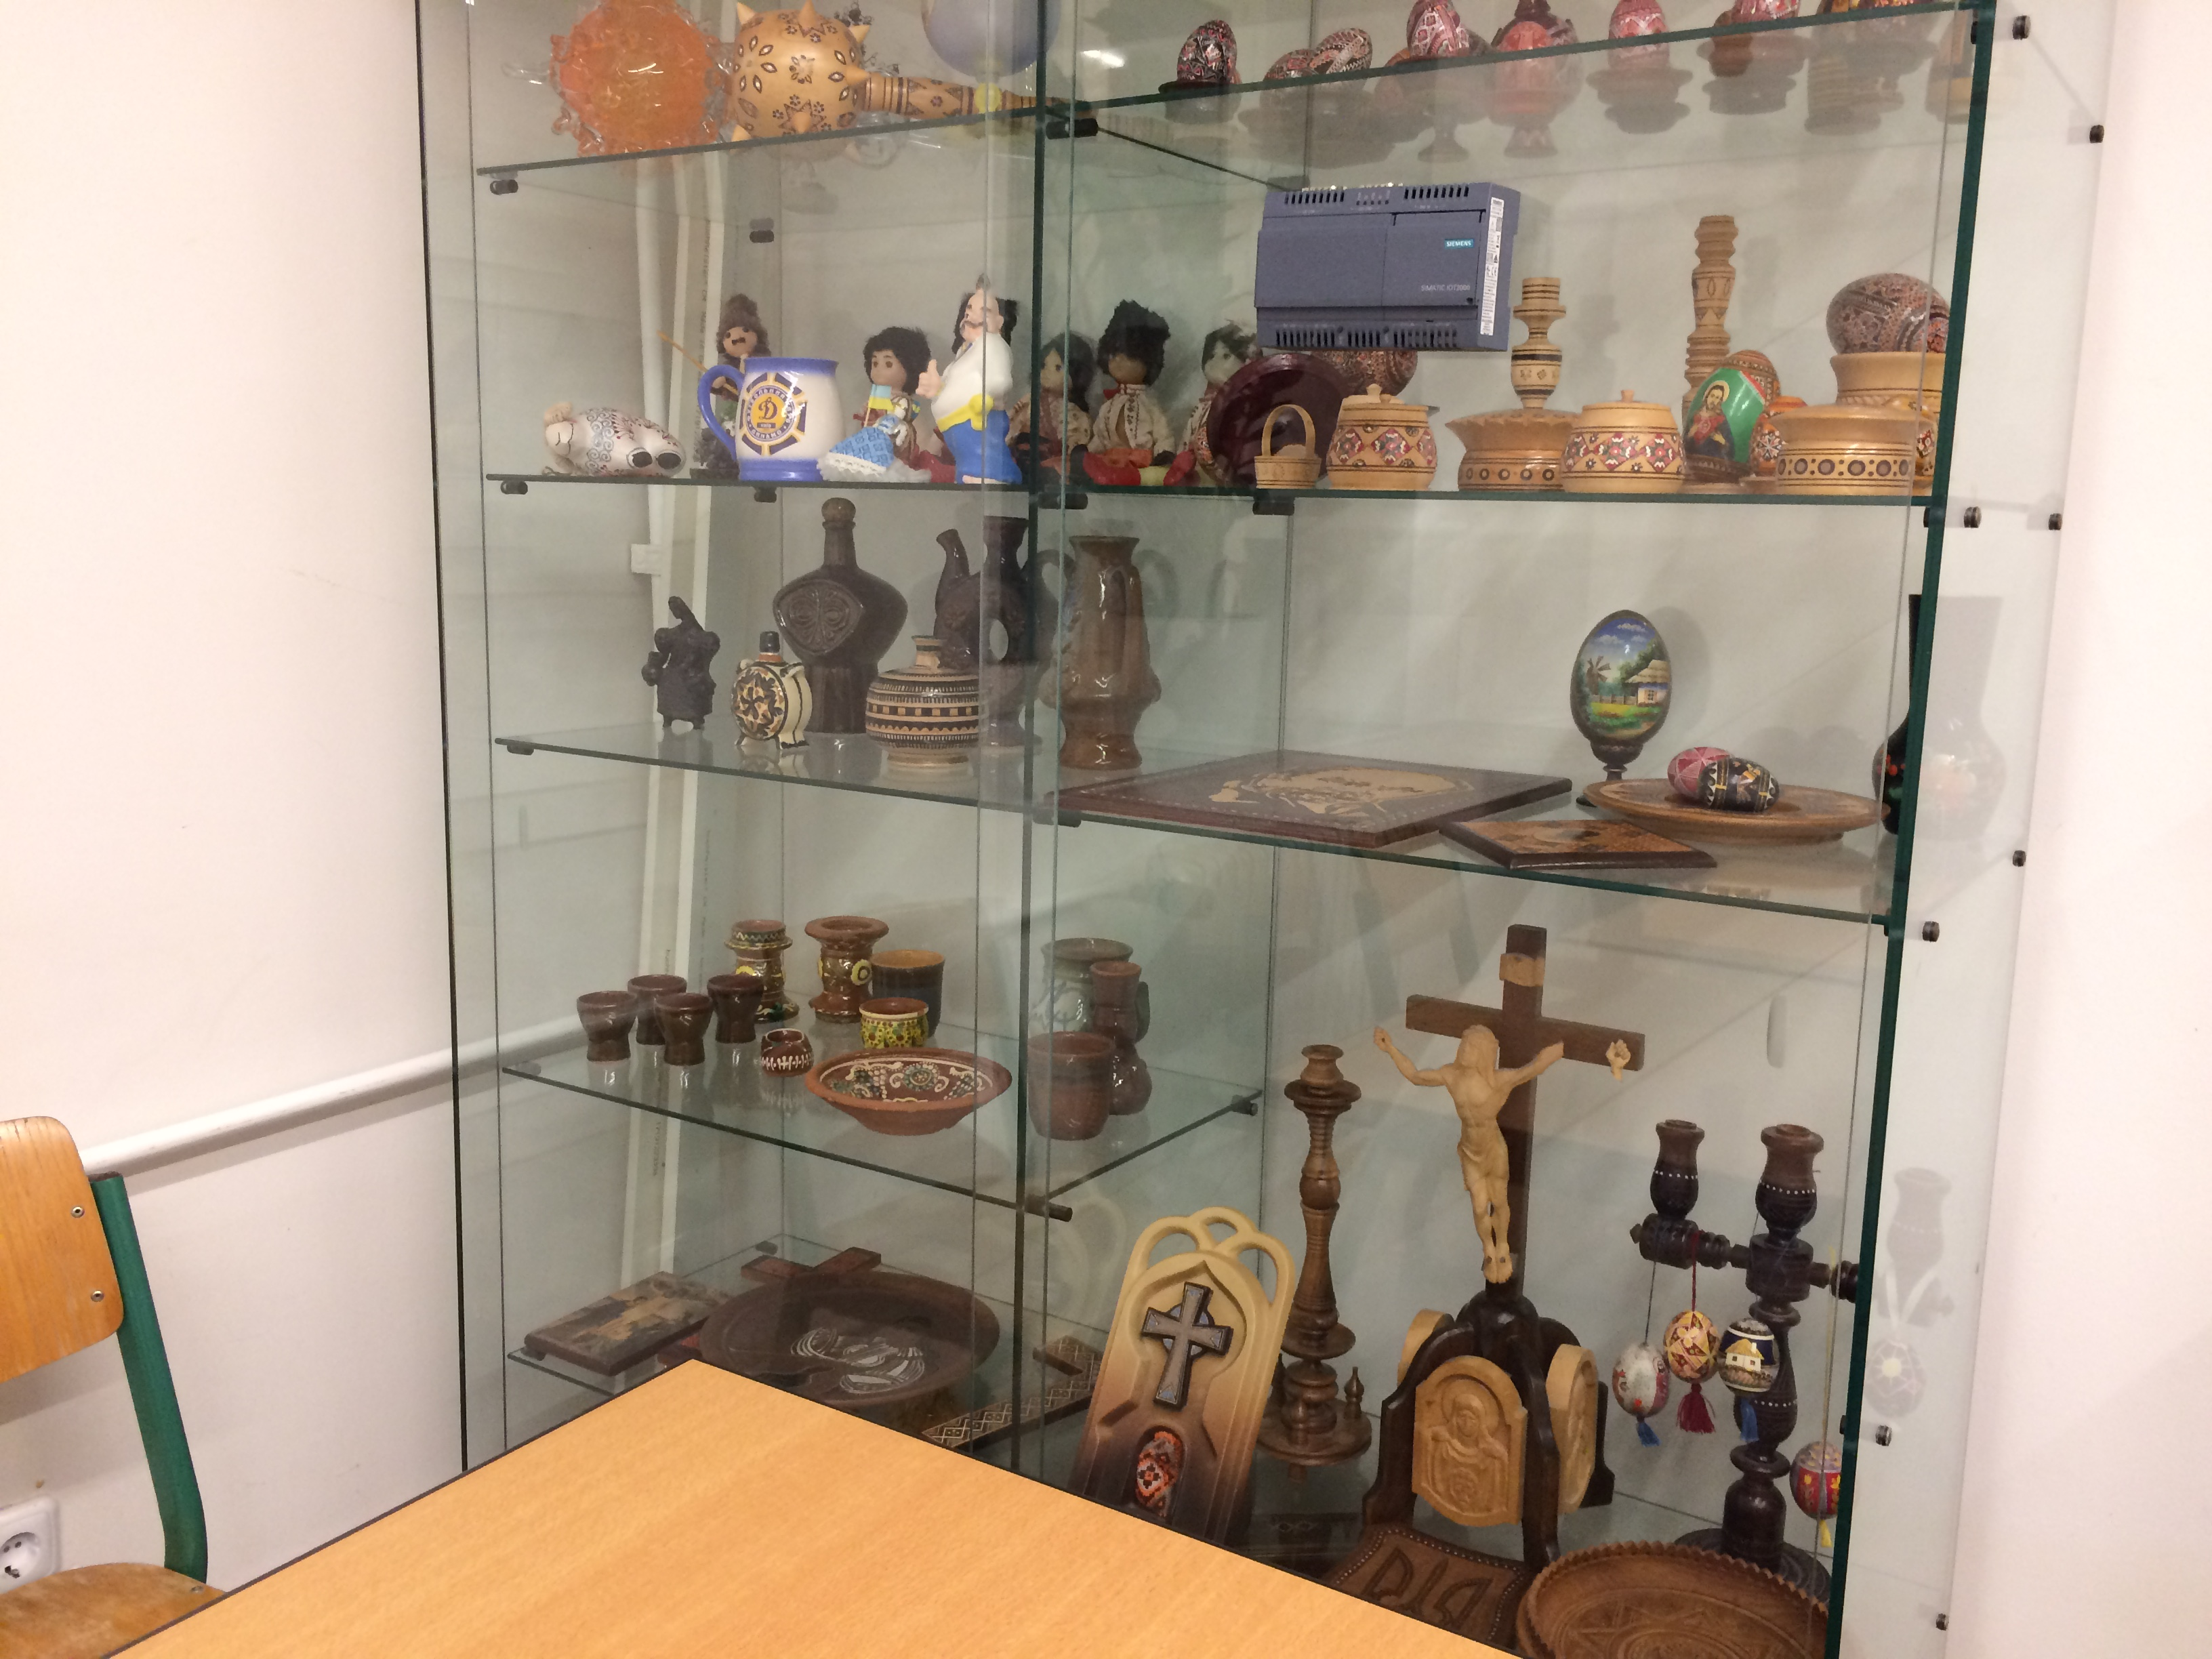iot2000: (1252, 179, 1524, 355)
